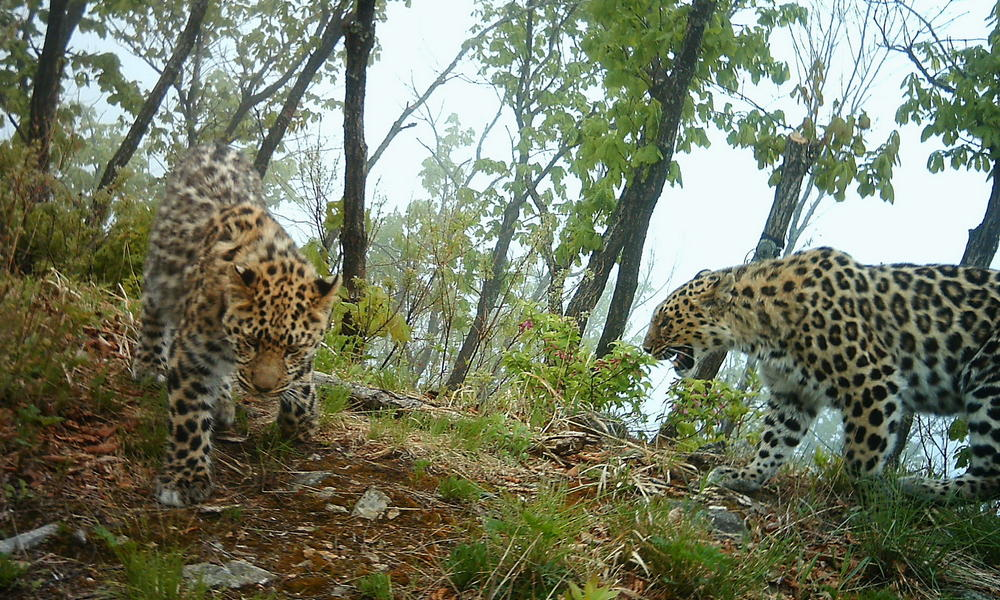amur_leopard: (642, 235, 995, 502), (136, 124, 361, 493)
